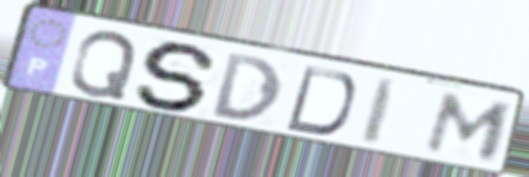D: (281, 63, 359, 138), (210, 50, 284, 124)
I: (357, 76, 403, 149)
M: (419, 90, 518, 164)
Q: (66, 29, 141, 102)
S: (132, 40, 223, 113)
